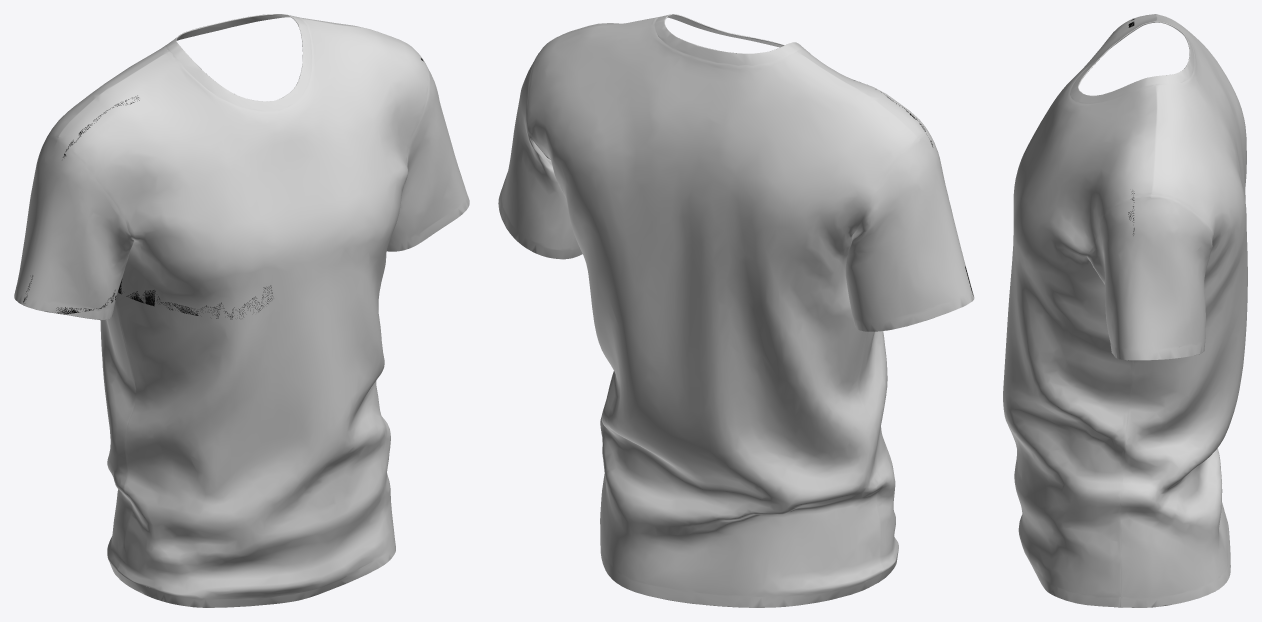
The model's file is design-1761643707856-425021652.glb.
3 views of the same model, side by side, from view 1: azimuth 30°, elevation 25°; view 2: azimuth 150°, elevation 25°; view 3: azimuth 270°, elevation 25° (orthographic). The views are drawn at different scales.
Size of the model in its own units: 1.1 by 1.23 by 0.5379.
2 materials, 1 textured.
